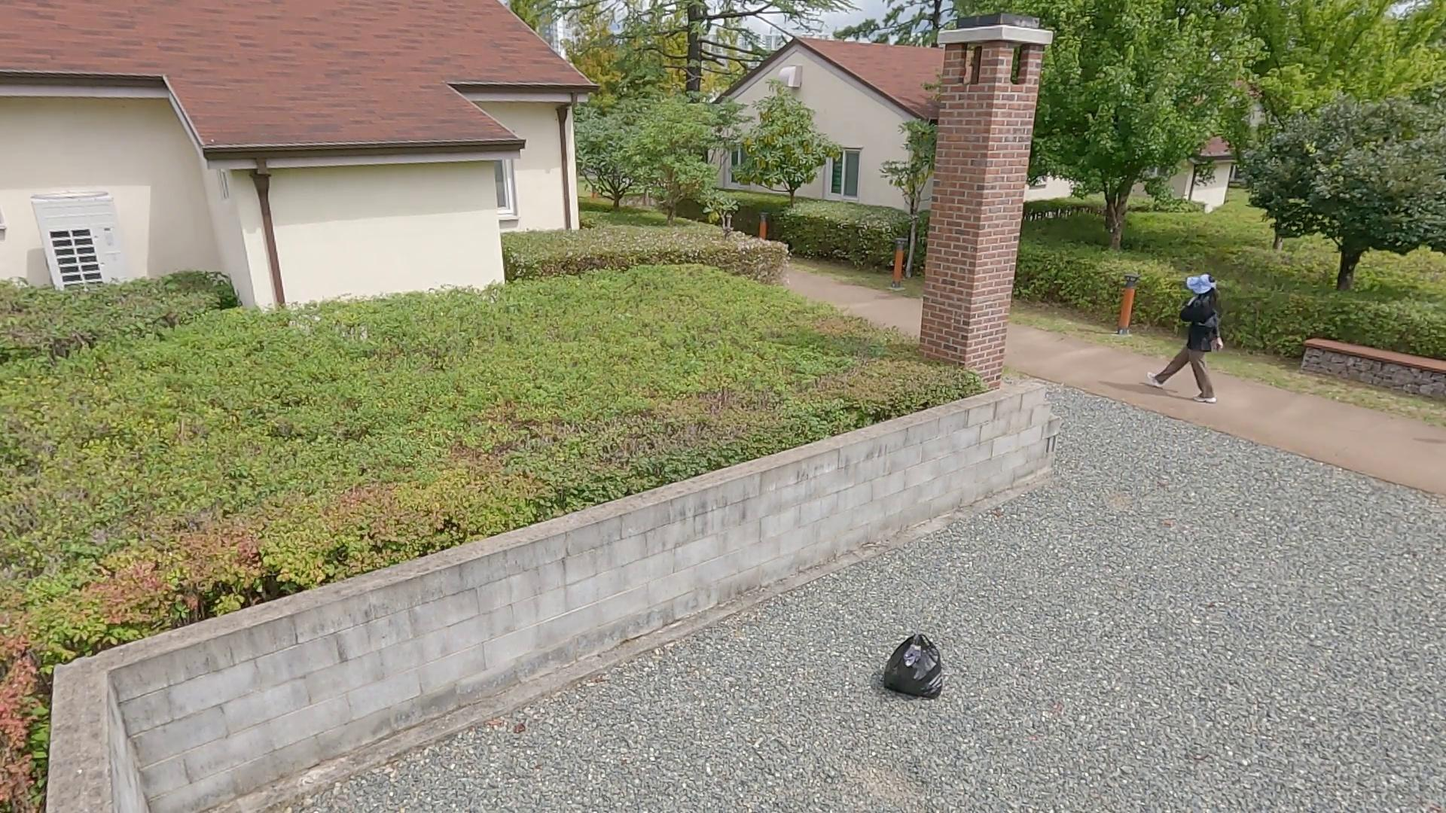person: (1150, 267, 1227, 398)
trash: (883, 630, 947, 705)
